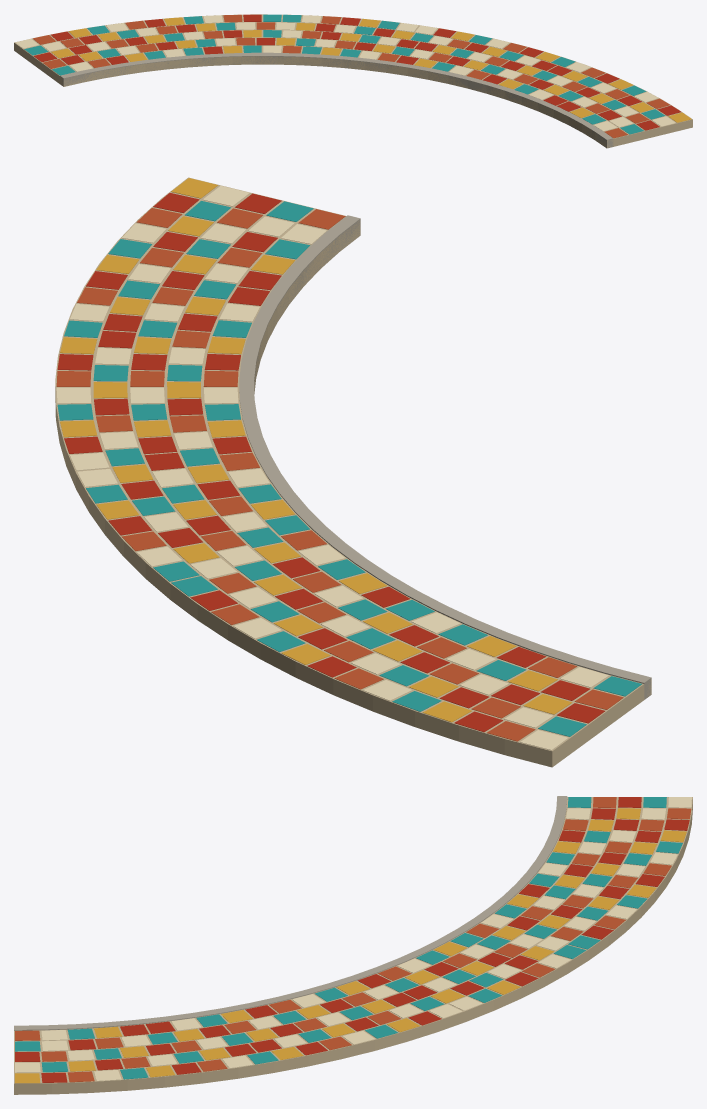
The model's file is suelo-aceras-ladrillo-acera-curva-exterior.glb.
3 renders of one model, top to bottom at view 1: azimuth 30°, elevation 25°; view 2: azimuth 150°, elevation 25°; view 3: azimuth 270°, elevation 25°, orthographic. The views are drawn at different scales.
Parts seen in each view (by area): view 1: acera_curva_exterior_AceraBase, acera_curva_exterior_BaldosaRoja, acera_curva_exterior_BaldosaCrema, acera_curva_exterior_BaldosaTurquesa, acera_curva_exterior_Bordillo, acera_curva_exterior_BaldosaMostaza, acera_curva_exterior_BaldosaTerracota; view 2: acera_curva_exterior_AceraBase, acera_curva_exterior_BaldosaCrema, acera_curva_exterior_BaldosaRoja, acera_curva_exterior_BaldosaTurquesa, acera_curva_exterior_BaldosaMostaza, acera_curva_exterior_BaldosaTerracota, acera_curva_exterior_Bordillo; view 3: acera_curva_exterior_AceraBase, acera_curva_exterior_BaldosaCrema, acera_curva_exterior_BaldosaRoja, acera_curva_exterior_BaldosaTurquesa, acera_curva_exterior_BaldosaMostaza, acera_curva_exterior_BaldosaTerracota, acera_curva_exterior_Bordillo.
Boxes of the visible parts, box(x1,y1,x2,y2) form: acera_curva_exterior_AceraBase: box(14, 14, 692, 148); acera_curva_exterior_BaldosaRoja: box(33, 14, 680, 130); acera_curva_exterior_BaldosaCrema: box(15, 15, 675, 131); acera_curva_exterior_BaldosaTurquesa: box(24, 14, 665, 134); acera_curva_exterior_Bordillo: box(60, 52, 613, 148); acera_curva_exterior_BaldosaMostaza: box(51, 17, 691, 122); acera_curva_exterior_BaldosaTerracota: box(33, 14, 669, 138); acera_curva_exterior_AceraBase: box(55, 177, 651, 767); acera_curva_exterior_BaldosaCrema: box(56, 186, 608, 750); acera_curva_exterior_BaldosaRoja: box(57, 193, 604, 732); acera_curva_exterior_BaldosaTurquesa: box(57, 201, 641, 736); acera_curva_exterior_BaldosaMostaza: box(60, 178, 572, 722); acera_curva_exterior_BaldosaTerracota: box(56, 208, 623, 741); acera_curva_exterior_Bordillo: box(239, 215, 651, 699); acera_curva_exterior_AceraBase: box(14, 797, 692, 1094); acera_curva_exterior_BaldosaCrema: box(15, 797, 691, 1081); acera_curva_exterior_BaldosaRoja: box(15, 797, 689, 1082); acera_curva_exterior_BaldosaTurquesa: box(15, 797, 682, 1079); acera_curva_exterior_BaldosaMostaza: box(15, 808, 686, 1083); acera_curva_exterior_BaldosaTerracota: box(15, 797, 691, 1082); acera_curva_exterior_Bordillo: box(14, 796, 567, 1030).
Bounding box in the file's own units: 10 × 0.192 × 10.
